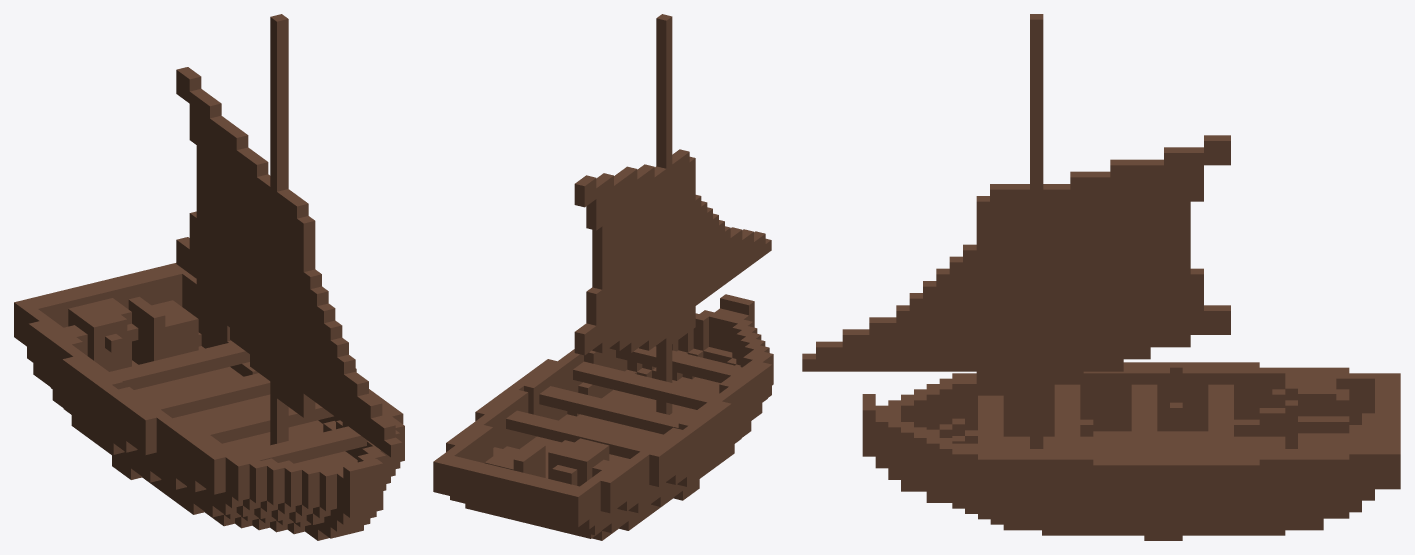
File: sloop.glb
3 views of the same model, side by side, from view 1: azimuth 30°, elevation 25°; view 2: azimuth 150°, elevation 25°; view 3: azimuth 270°, elevation 25° (orthographic). The views are drawn at different scales.
Visible parts, largest first — view 1: Boat.001, Sail.001; view 2: Boat.001, Sail.001; view 3: Boat.001, Sail.001.
Boxes of the visible parts, <box> form: Boat.001: <box>14,263,404,540</box>; Sail.001: <box>176,14,402,457</box>; Boat.001: <box>433,294,773,540</box>; Sail.001: <box>574,14,771,414</box>; Boat.001: <box>862,362,1400,540</box>; Sail.001: <box>802,14,1230,448</box>.
Bounding box in the file's own units: 0.3897 × 0.8452 × 0.958.
